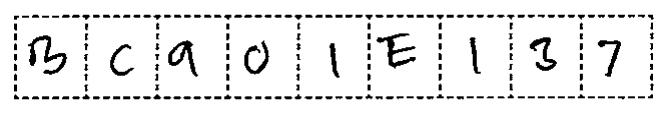0: (236, 37, 277, 78)
1: (313, 35, 351, 84), (456, 27, 492, 78)
3: (526, 33, 564, 76)
7: (590, 35, 628, 86)
9: (163, 37, 206, 81)
B: (26, 30, 73, 81)
C: (102, 37, 139, 84)
E: (373, 29, 423, 71)
